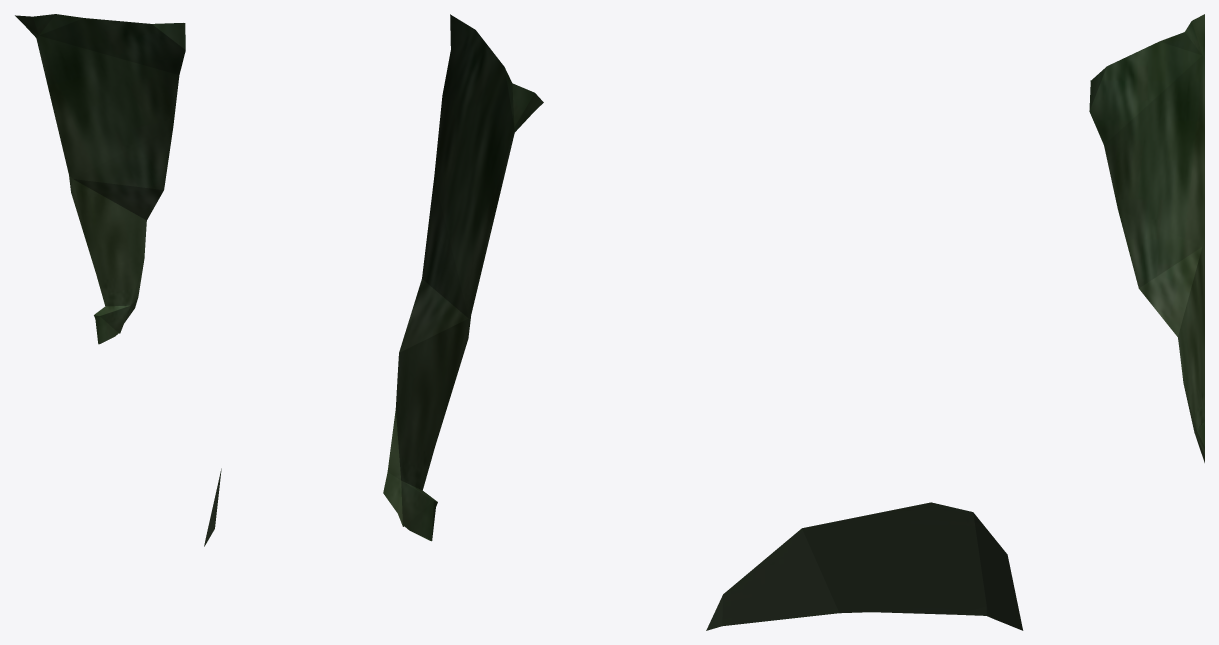
3 renders of one model, left to right at view 1: azimuth 30°, elevation 25°; view 2: azimuth 150°, elevation 25°; view 3: azimuth 270°, elevation 25°, orthographic. The views are drawn at different scales.
Bounding box in the file's own units: 0.7685 × 2.95 × 2.42.
1 material, 1 textured.
